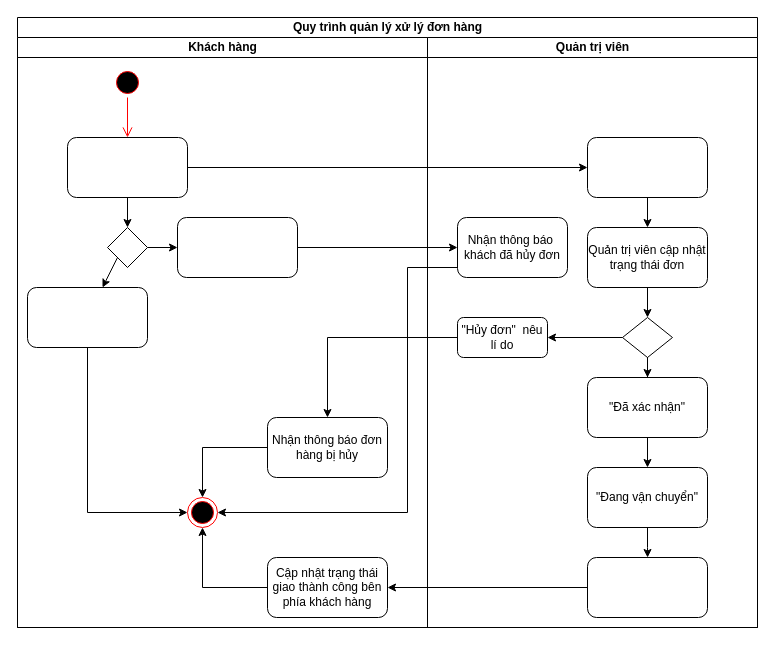
This 775x645 diagram has some shape labels left out. The shapes that lost their labels are listed below. From the top down, each one's centre as x and y in pixels, then its label:
point 127,167: Khách hàng xác nhận đặt hàng thành công
point 647,167: Quản trị viên nhận thấy được đơn hàng mới từ khách hàng
point 237,247: Có thể hủy đơn khi quản trị viên chưa xác nhận đơn
point 87,317: Xem lại đơn hàng
point 647,587: "Giao thành công"
